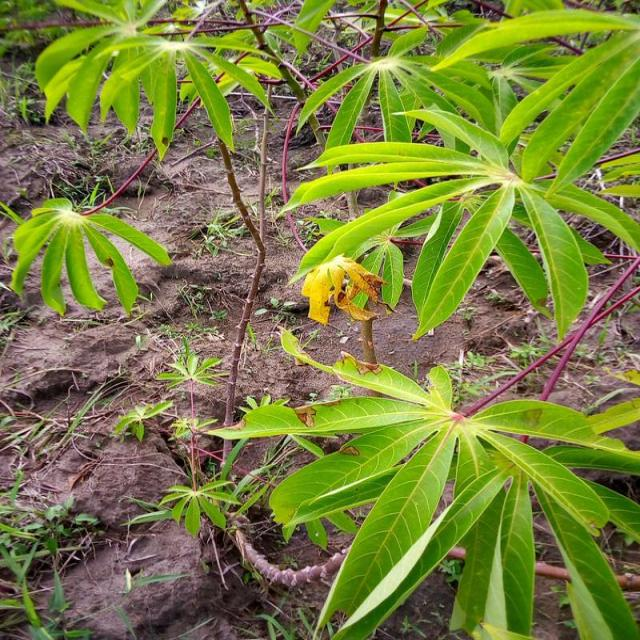cassava leaf: (204, 336, 638, 638), (277, 5, 638, 342), (9, 194, 171, 317)
